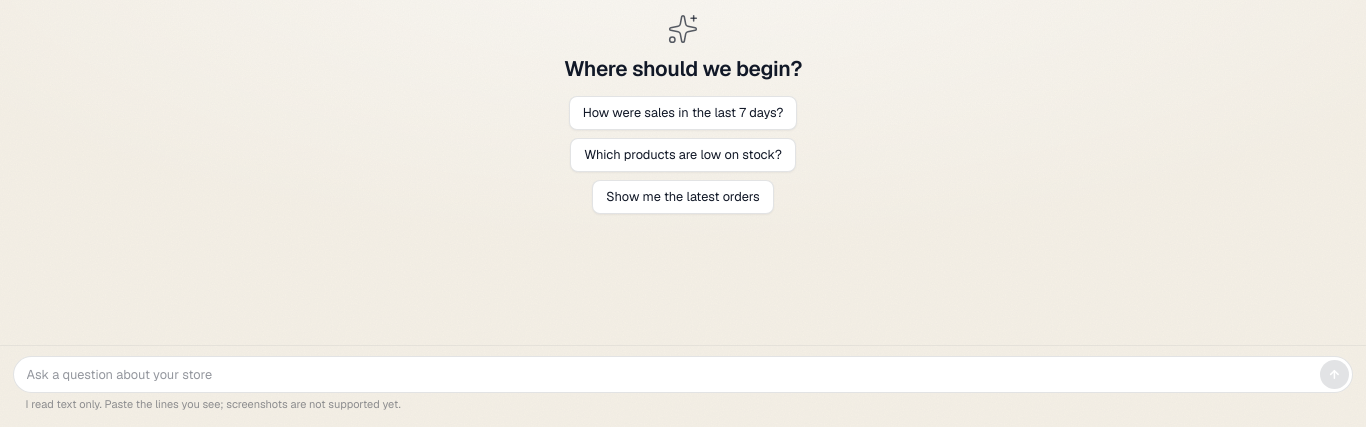
Test: AssistantChat › never reads the signed-in session
Click the button "How were sales in the last 7 days?" at x=683, y=113, box [569,96,797,130]
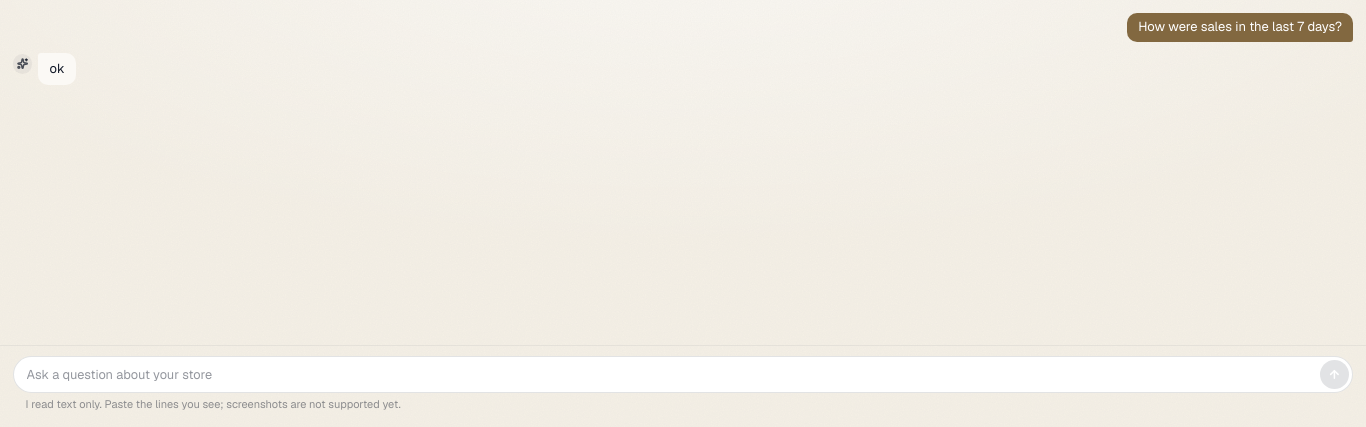
Expected: the text "ok" is shown, [50,61,65,77]
